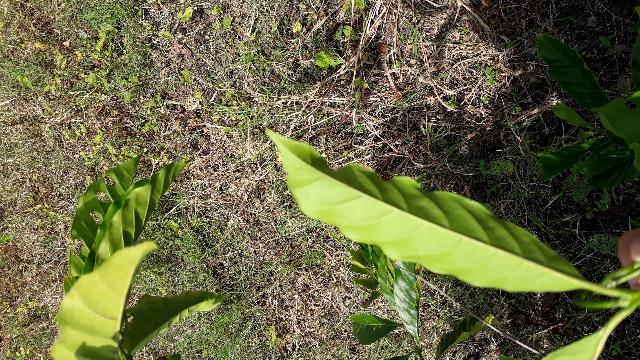healthy: (265, 130, 583, 290)
